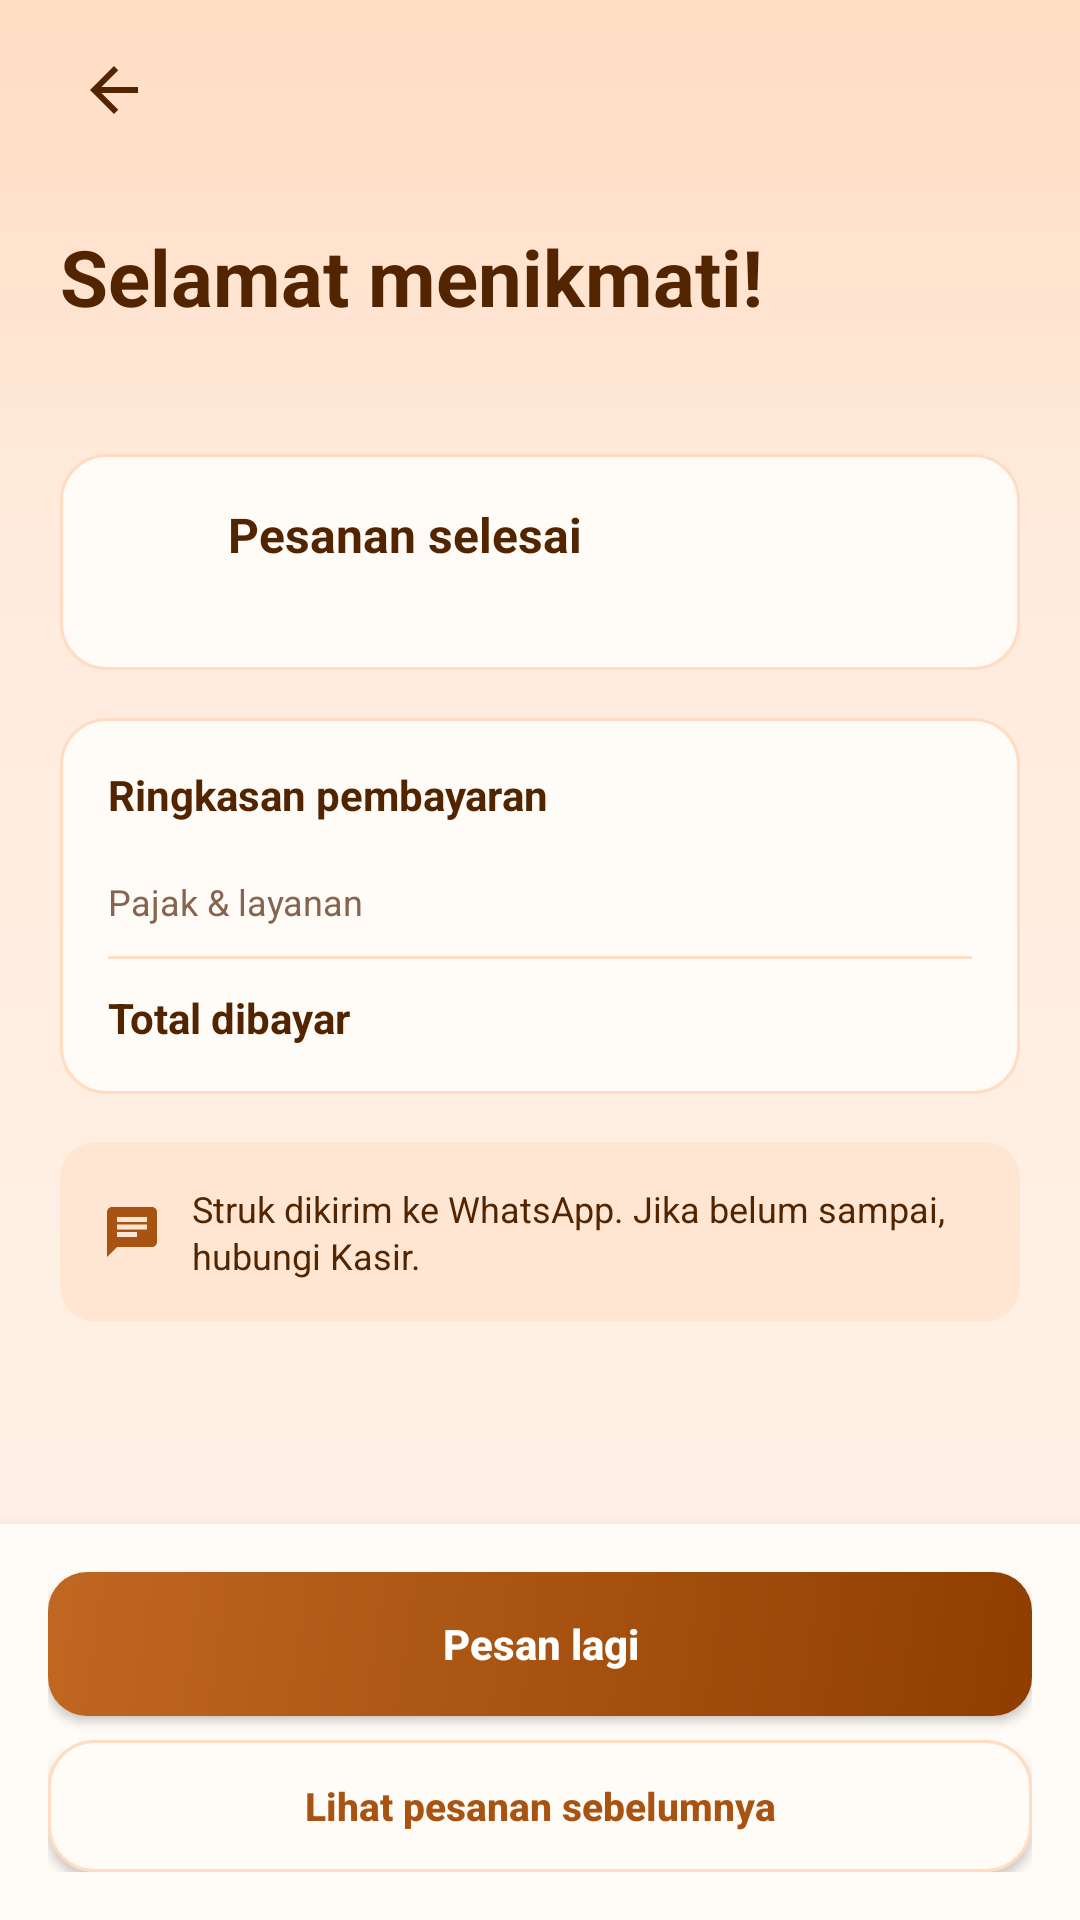

Icons on this 1080w x 1920h Android screen, each with the point to tap as point (x, y):
chat: point (132, 1232)
Kembali: point (114, 90)
